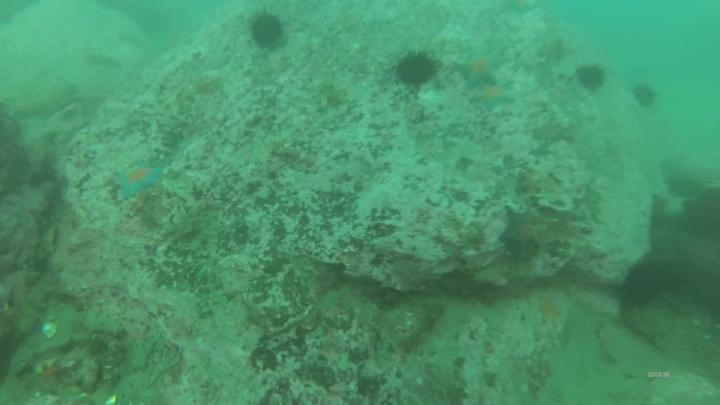echinus: (622, 260, 666, 306), (251, 14, 283, 51), (399, 52, 436, 84), (577, 64, 604, 88), (636, 85, 656, 106)
holothurian: (74, 311, 127, 339)
starfish: (117, 164, 165, 196), (459, 53, 502, 87), (502, 211, 539, 248), (474, 83, 519, 105)
